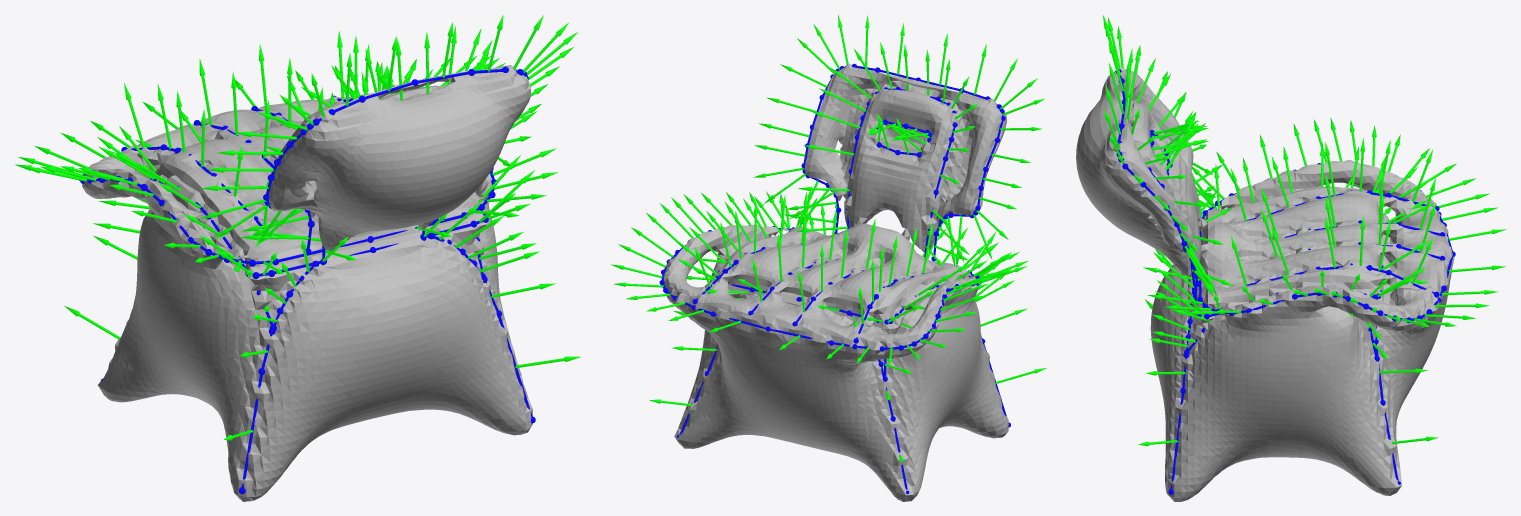
Rendered from author1_chair.gltf.
The picture shows the model from 3 angles, left to right: view 1: azimuth 30°, elevation 25°; view 2: azimuth 150°, elevation 25°; view 3: azimuth 270°, elevation 25°; orthographic projection. The views are drawn at different scales.
Bounding box in the file's own units: 0.7398 × 0.7303 × 0.7225.
